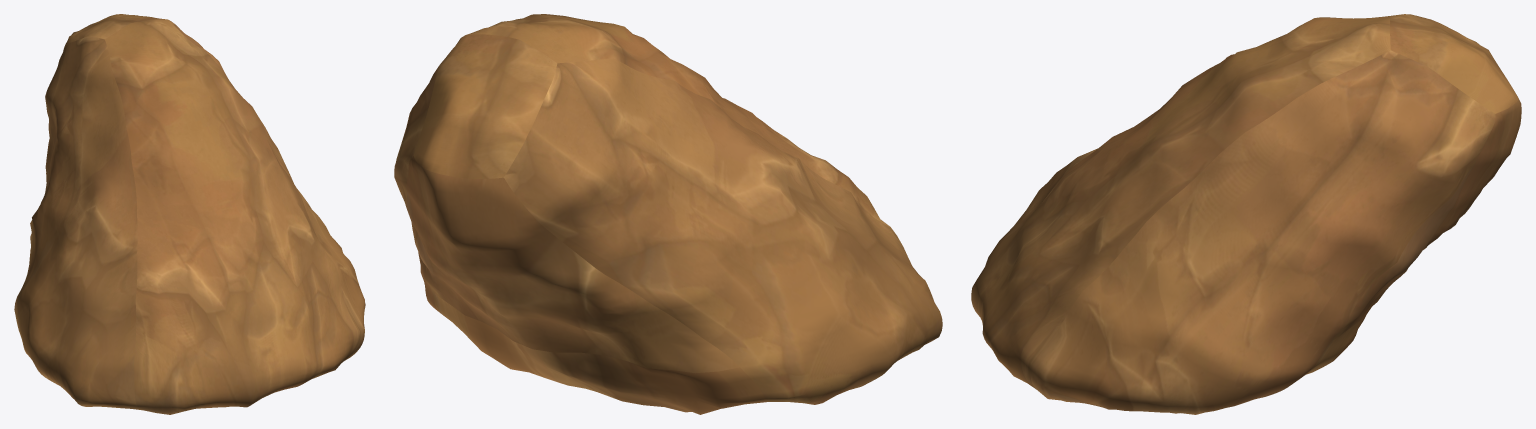
The model's file is islands2.fbx.
3 renders of one model, left to right at view 1: azimuth 30°, elevation 25°; view 2: azimuth 150°, elevation 25°; view 3: azimuth 270°, elevation 25°, orthographic. The views are drawn at different scales.
Parts seen in each view (by area): view 1: Cube.001; view 2: Cube.001; view 3: Cube.001.
Boxes of the visible parts, x1,y1,x2,y2 form: Cube.001: [14, 14, 365, 414]; Cube.001: [394, 14, 942, 414]; Cube.001: [971, 14, 1521, 414].
Size of the model in its own units: 1282 by 1126 by 1574.
1 material, 1 textured.
